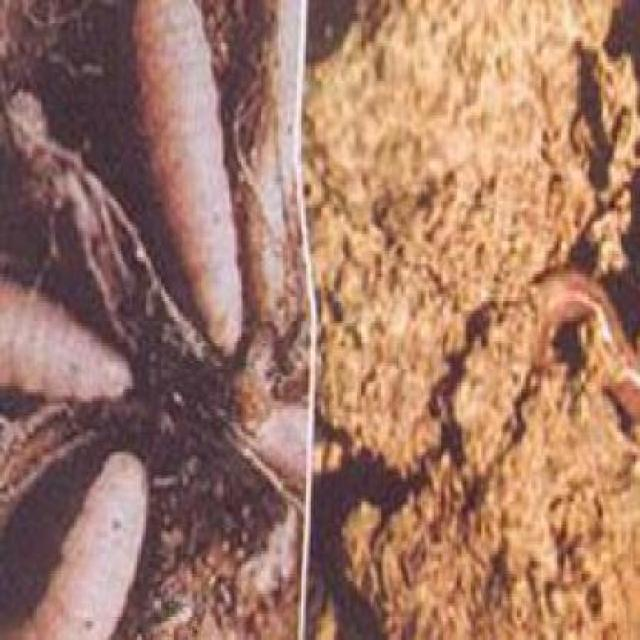whorl-maggot: (128, 5, 247, 358), (7, 450, 152, 638), (1, 273, 135, 407)
